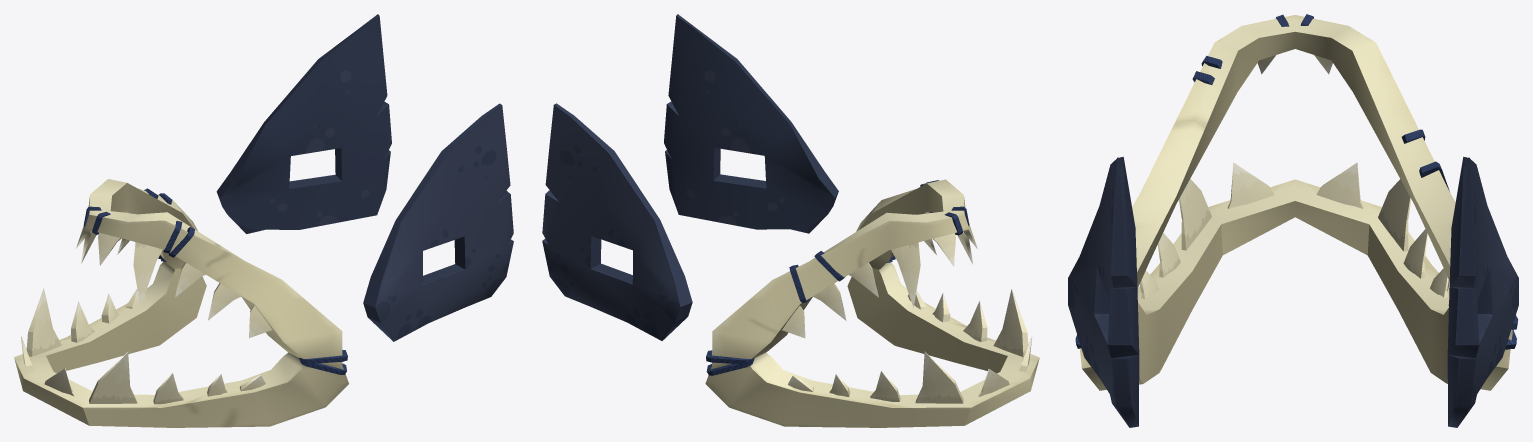
Rendered from EperonRequin.FBX.
3 renders of one model, left to right at view 1: azimuth 30°, elevation 25°; view 2: azimuth 150°, elevation 25°; view 3: azimuth 270°, elevation 25°, orthographic. The views are drawn at different scales.
Parts seen in each view (by area): view 1: Plane203; view 2: Plane203; view 3: Plane203.
Boxes of the visible parts, box(x1,y1,x2,y2) form: Plane203: box(14, 14, 513, 427); Plane203: box(542, 14, 1039, 427); Plane203: box(1068, 14, 1518, 427).
Size of the model in its own units: 367 by 219 by 237.
